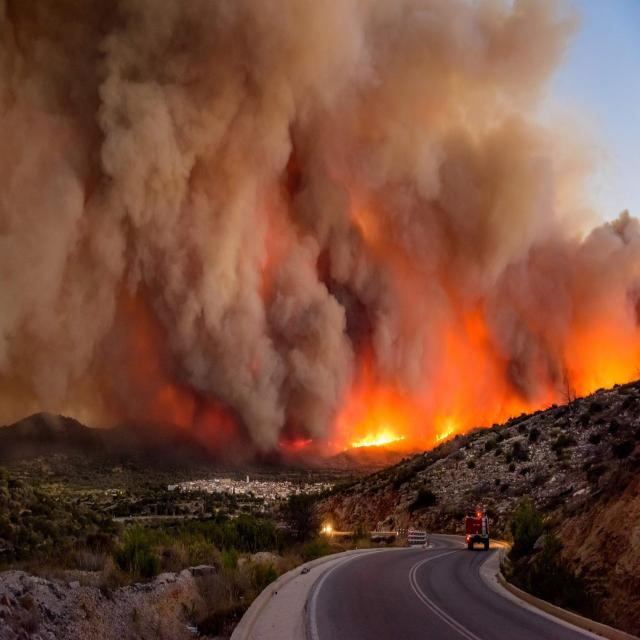Fire: (329, 393, 475, 454)
Smoke: (41, 9, 640, 428)
